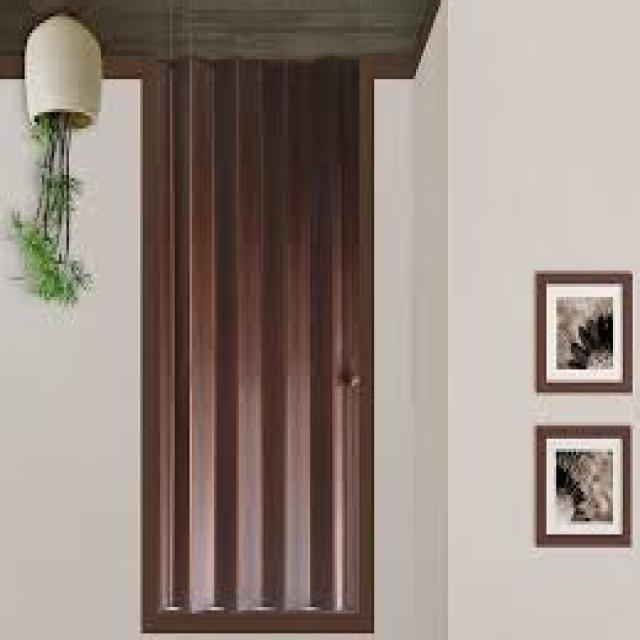door: (142, 56, 376, 633)
